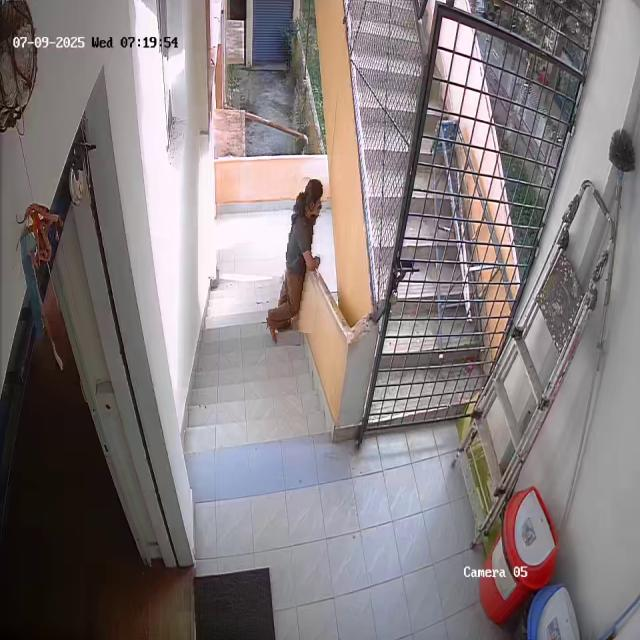person: (270, 173, 325, 332)
